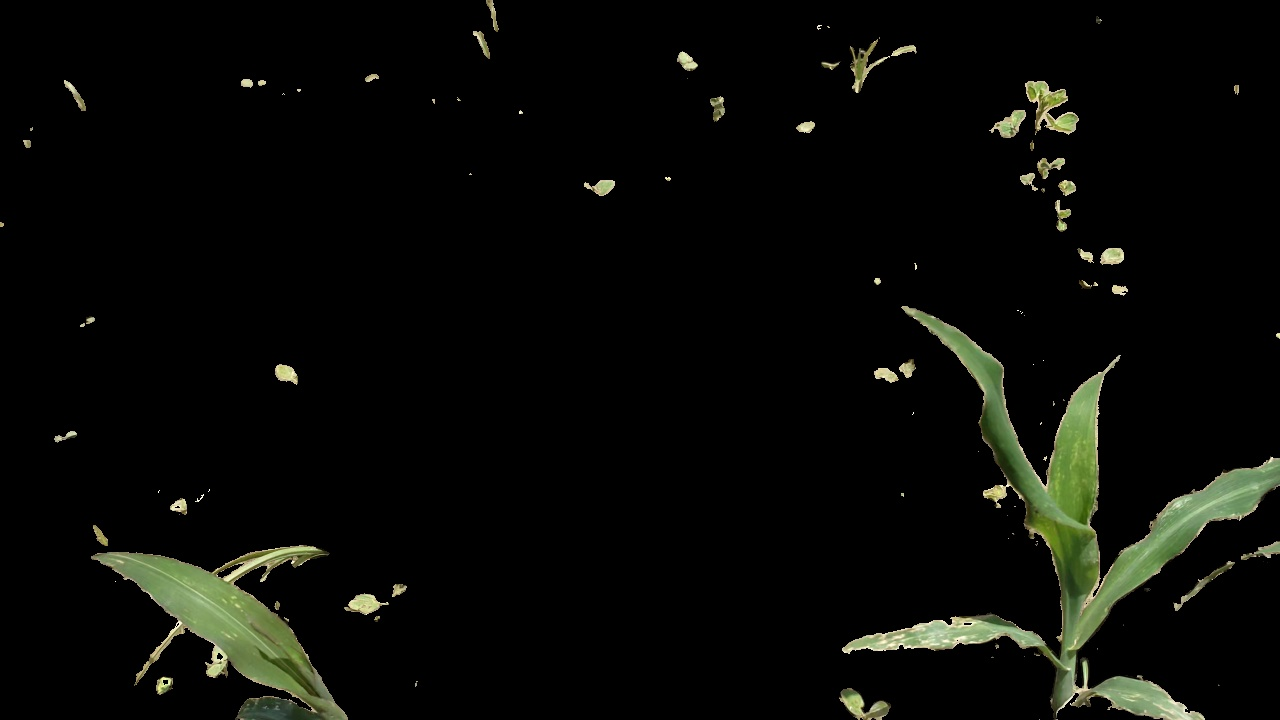crop: (848, 293, 1259, 719)
weed: (62, 524, 333, 720), (992, 67, 1109, 148), (801, 27, 913, 99), (333, 579, 408, 619), (1065, 235, 1135, 275), (832, 685, 898, 720), (868, 361, 923, 394), (271, 351, 316, 388)
